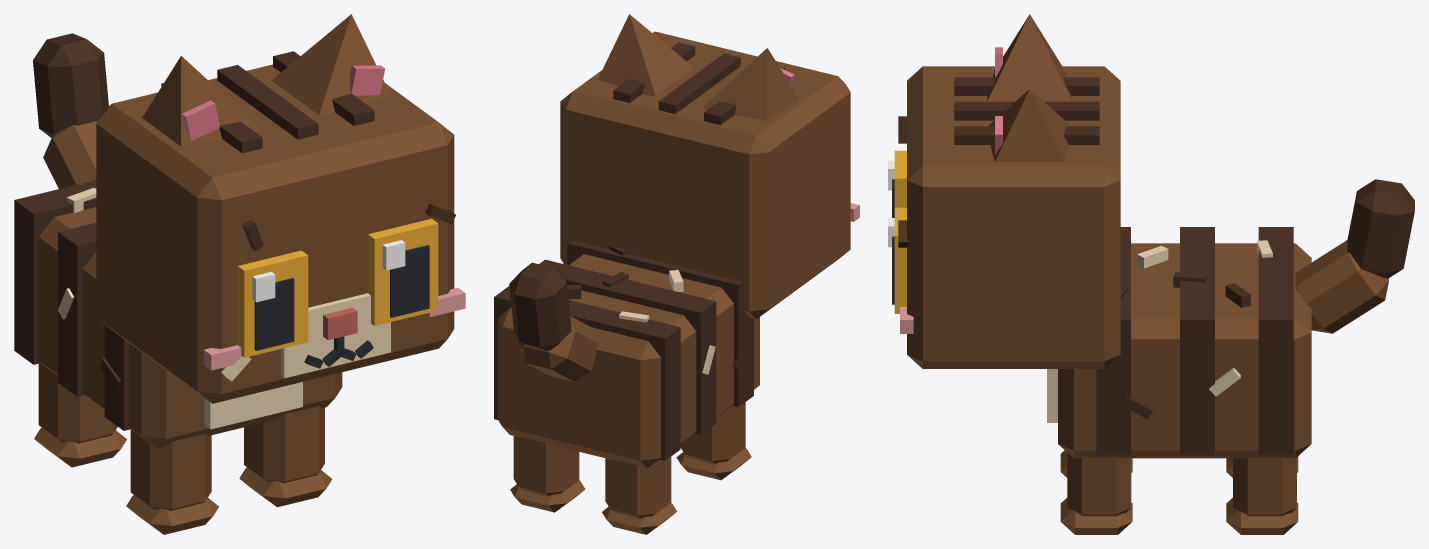
Rendered from CatCafe_Cat_Brownie.fbx.
The picture shows the model from 3 angles, left to right: view 1: azimuth 30°, elevation 25°; view 2: azimuth 150°, elevation 25°; view 3: azimuth 270°, elevation 25°; orthographic projection. The views are drawn at different scales.
Parts seen in each view (by area): view 1: CatCafe_Cat_Brownie_Head, CatCafe_Cat_Brownie_Body, CatCafe_Cat_Brownie_Tail, CatCafe_Cat_Brownie_LegF2, CatCafe_Cat_Brownie_LegF1, CatCafe_Cat_Brownie_Eye2, CatCafe_Cat_Brownie_Eye1, CatCafe_Cat_Brownie_EarL, CatCafe_Cat_Brownie_LegB2, CatCafe_Cat_Brownie_EarR; view 2: CatCafe_Cat_Brownie_Head, CatCafe_Cat_Brownie_Body, CatCafe_Cat_Brownie_Tail, CatCafe_Cat_Brownie_LegB2, CatCafe_Cat_Brownie_LegB1, CatCafe_Cat_Brownie_EarL, CatCafe_Cat_Brownie_EarR, CatCafe_Cat_Brownie_LegF2; view 3: CatCafe_Cat_Brownie_Head, CatCafe_Cat_Brownie_Body, CatCafe_Cat_Brownie_Tail, CatCafe_Cat_Brownie_LegF1, CatCafe_Cat_Brownie_LegB1, CatCafe_Cat_Brownie_EarR, CatCafe_Cat_Brownie_EarL, CatCafe_Cat_Brownie_Eye1, CatCafe_Cat_Brownie_Eye2.
Boxes of the visible parts, box(x1,y1,x2,y2) form: CatCafe_Cat_Brownie_Head: box(96, 51, 465, 403); CatCafe_Cat_Brownie_Body: box(14, 180, 342, 448); CatCafe_Cat_Brownie_Tail: box(33, 33, 108, 188); CatCafe_Cat_Brownie_LegF2: box(126, 429, 218, 534); CatCafe_Cat_Brownie_LegF1: box(239, 406, 332, 507); CatCafe_Cat_Brownie_Eye2: box(237, 250, 308, 357); CatCafe_Cat_Brownie_Eye1: box(368, 218, 438, 325); CatCafe_Cat_Brownie_EarL: box(271, 14, 390, 115); CatCafe_Cat_Brownie_LegB2: box(34, 363, 126, 467); CatCafe_Cat_Brownie_EarR: box(142, 56, 260, 146); CatCafe_Cat_Brownie_Head: box(560, 31, 859, 319); CatCafe_Cat_Brownie_Body: box(494, 240, 759, 468); CatCafe_Cat_Brownie_Tail: box(509, 262, 598, 381); CatCafe_Cat_Brownie_LegB2: box(602, 456, 676, 534); CatCafe_Cat_Brownie_LegB1: box(510, 436, 585, 512); CatCafe_Cat_Brownie_EarL: box(597, 14, 693, 95); CatCafe_Cat_Brownie_EarR: box(703, 48, 798, 121); CatCafe_Cat_Brownie_LegF2: box(676, 402, 751, 480); CatCafe_Cat_Brownie_Head: box(898, 66, 1120, 368); CatCafe_Cat_Brownie_Body: box(1047, 227, 1311, 458); CatCafe_Cat_Brownie_Tail: box(1295, 179, 1414, 333); CatCafe_Cat_Brownie_LegF1: box(1060, 453, 1132, 534); CatCafe_Cat_Brownie_LegB1: box(1226, 457, 1298, 534); CatCafe_Cat_Brownie_EarR: box(987, 14, 1072, 101); CatCafe_Cat_Brownie_EarL: box(988, 89, 1070, 161); CatCafe_Cat_Brownie_Eye1: box(888, 207, 906, 313); CatCafe_Cat_Brownie_Eye2: box(888, 150, 906, 217).
Size of the model in its own units: 1 by 1.86 by 1.97.
Materials: 1 (1 with a texture image).
